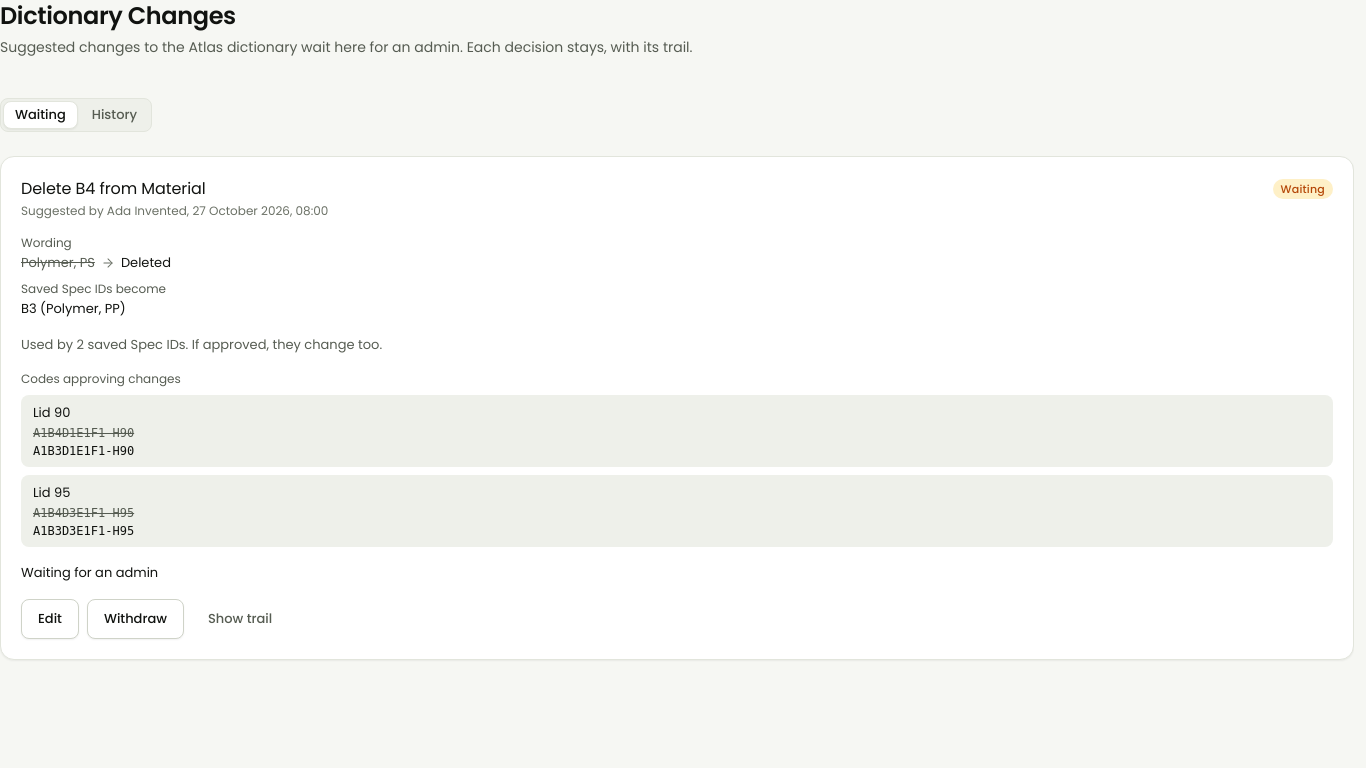
Test case: DictionaryChangesPage › lets the suggester edit it in the same form, from the version read, and the trail shows the edit's before and after
Click the button "Edit" at (50, 619), box [21,599,79,639]
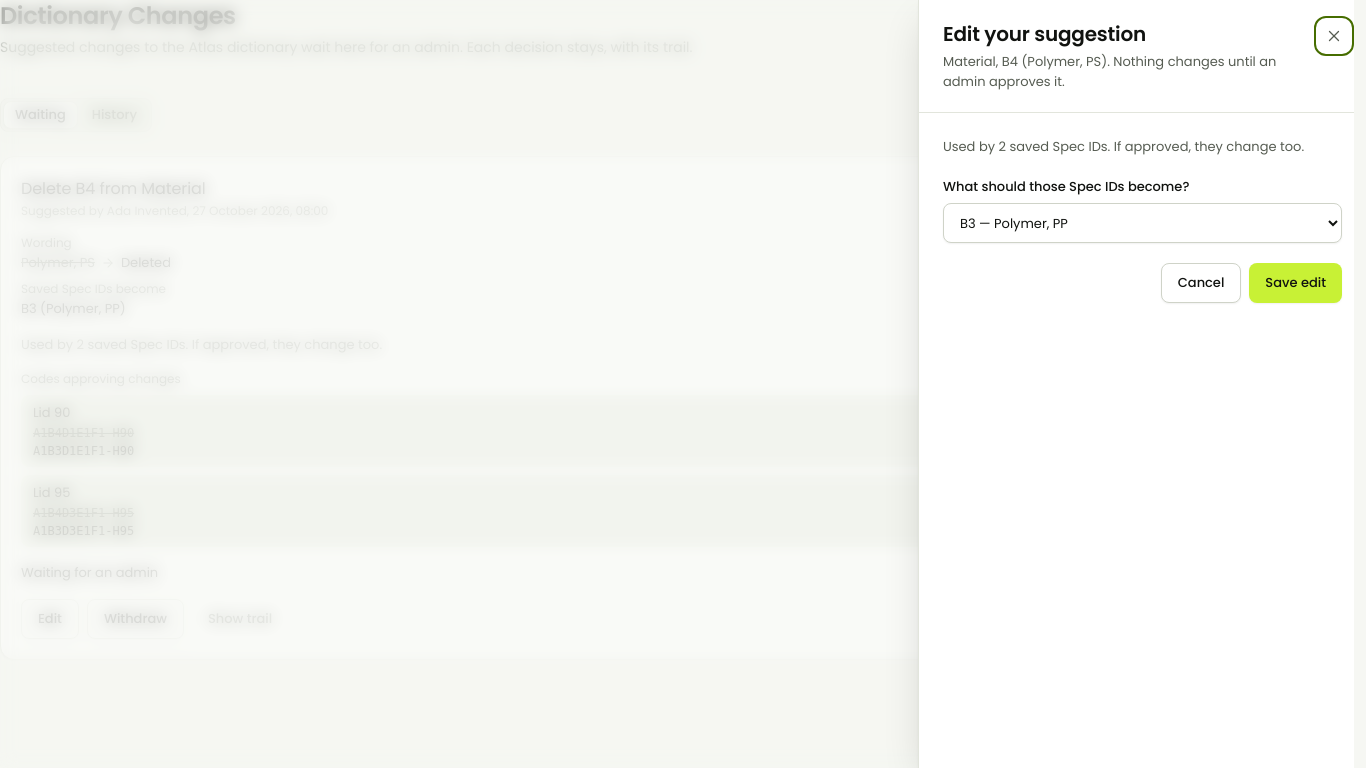
Now the dropdown labelled "What should those Spec IDs become?" shows "B3 — Polymer, PP"
Select "Not known (Y)" in the dropdown labelled "What should those Spec IDs become?" at (1142, 223), box [943,203,1342,243]
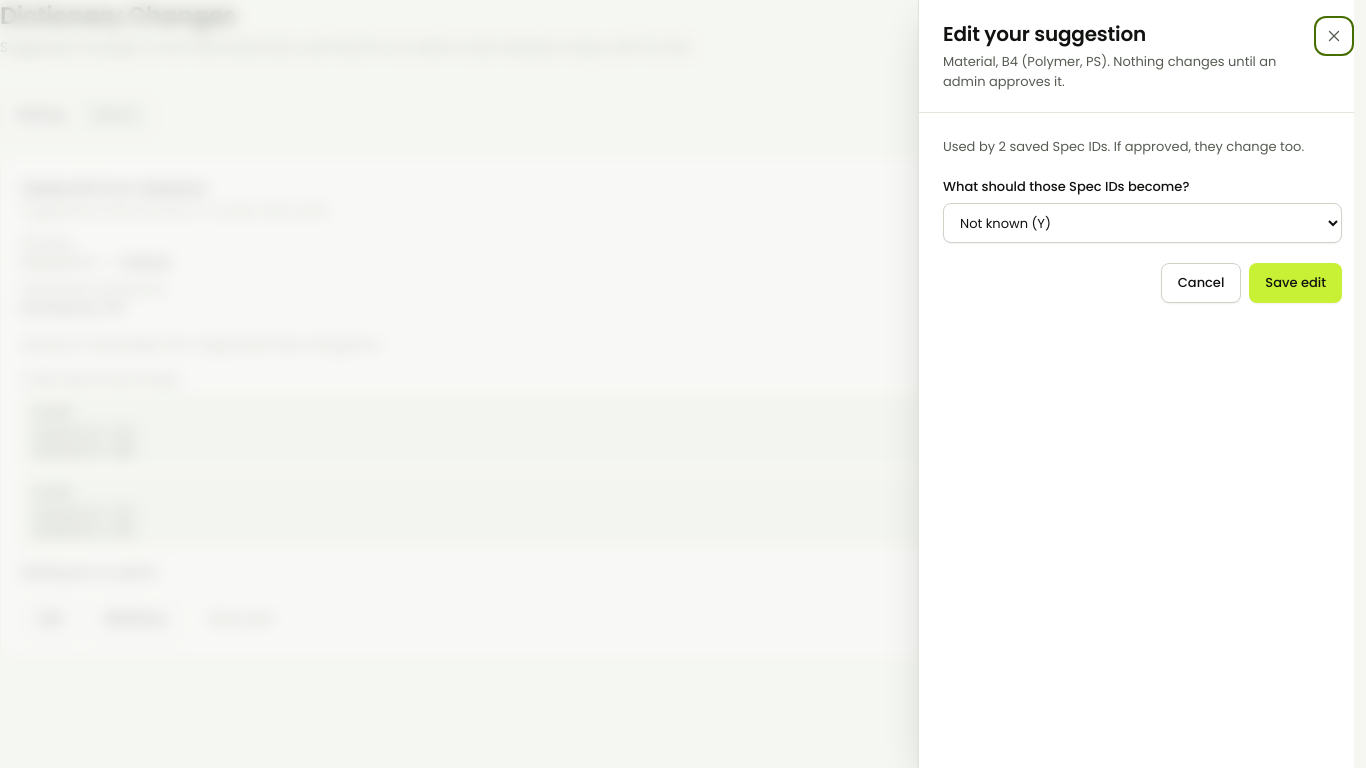
Click the button "Save edit" at (1296, 283), box [1249,263,1342,303]
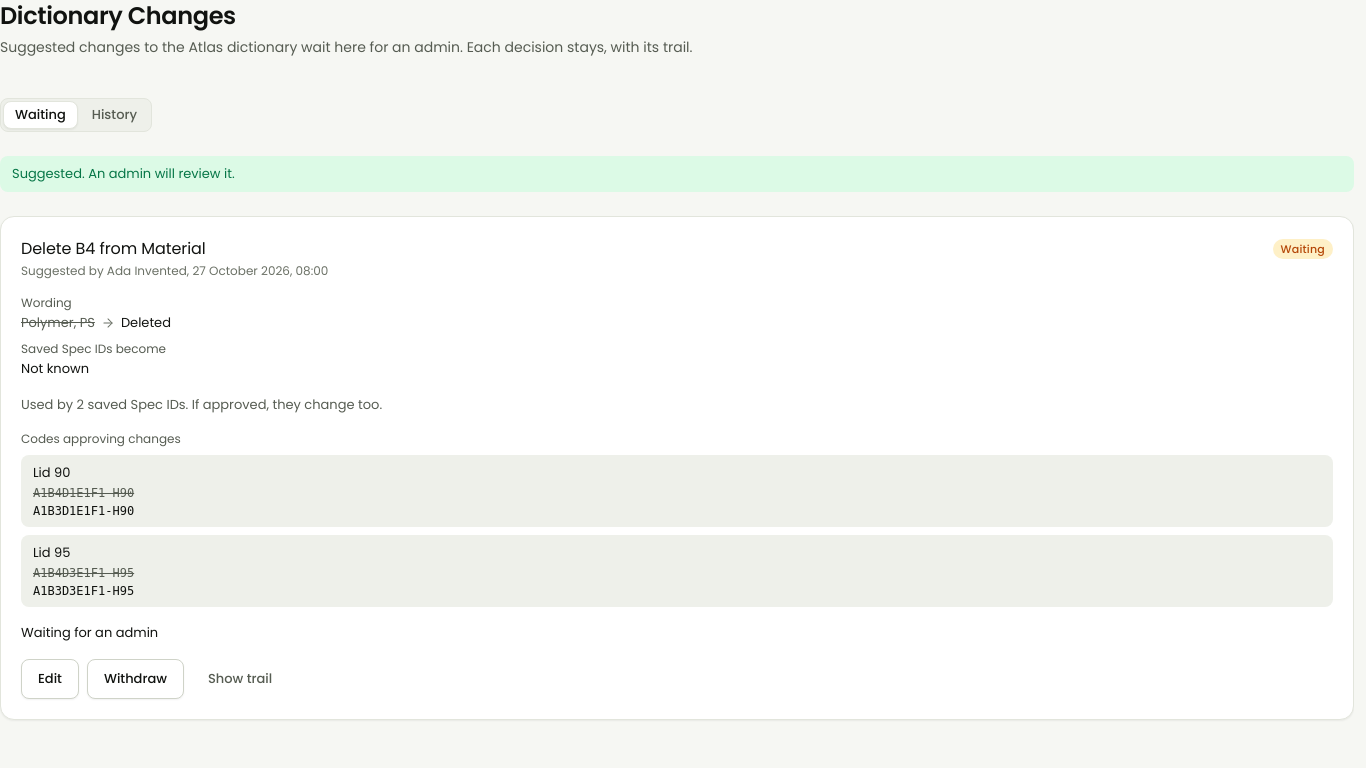
Now the text "Suggested. An admin will review it." is shown, box [0,156,1354,192]
Click the button "Show trail" at (240, 679), box [192,659,288,699]
(page scrolled)
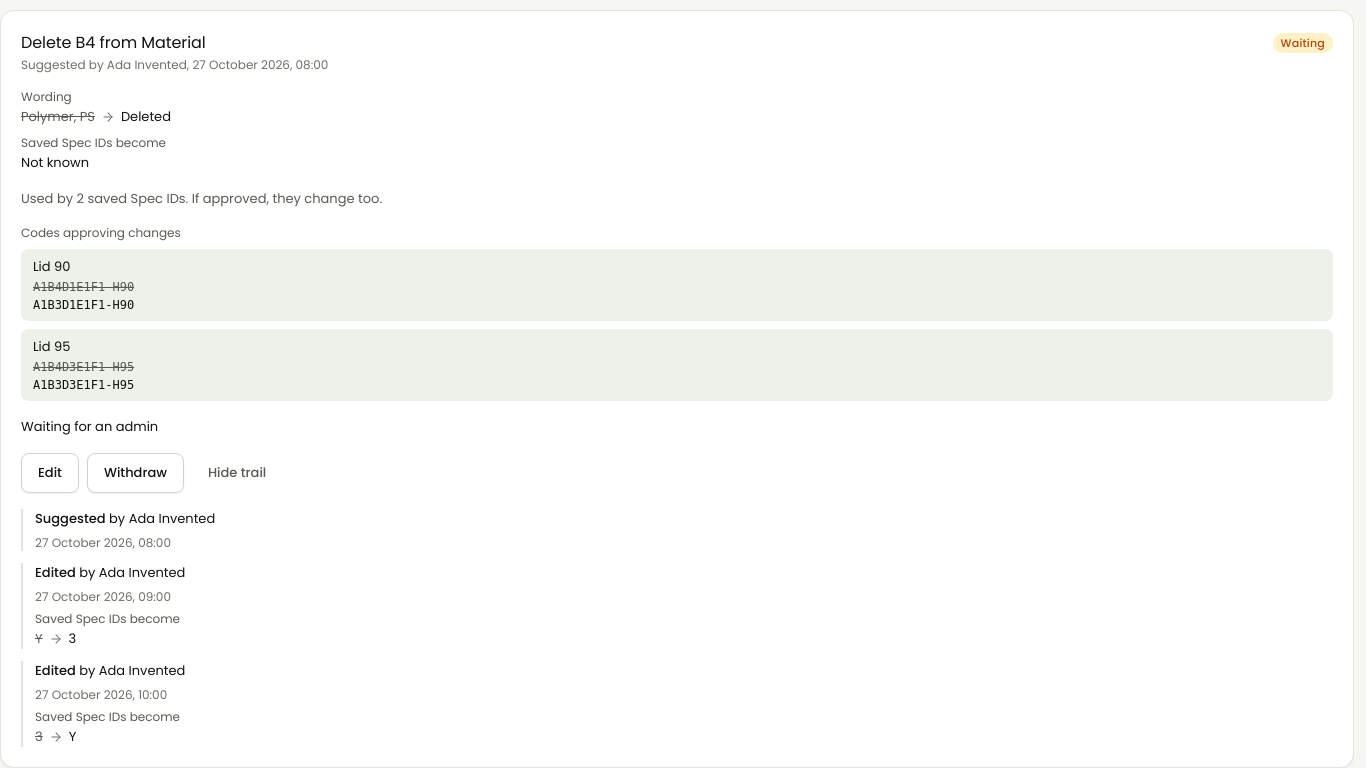
Now the 2nd text "Edited" is shown, box [35,661,76,680]
Now the text "Y" below "27 October 2026, 10:00" is shown, box [69,727,76,746]
